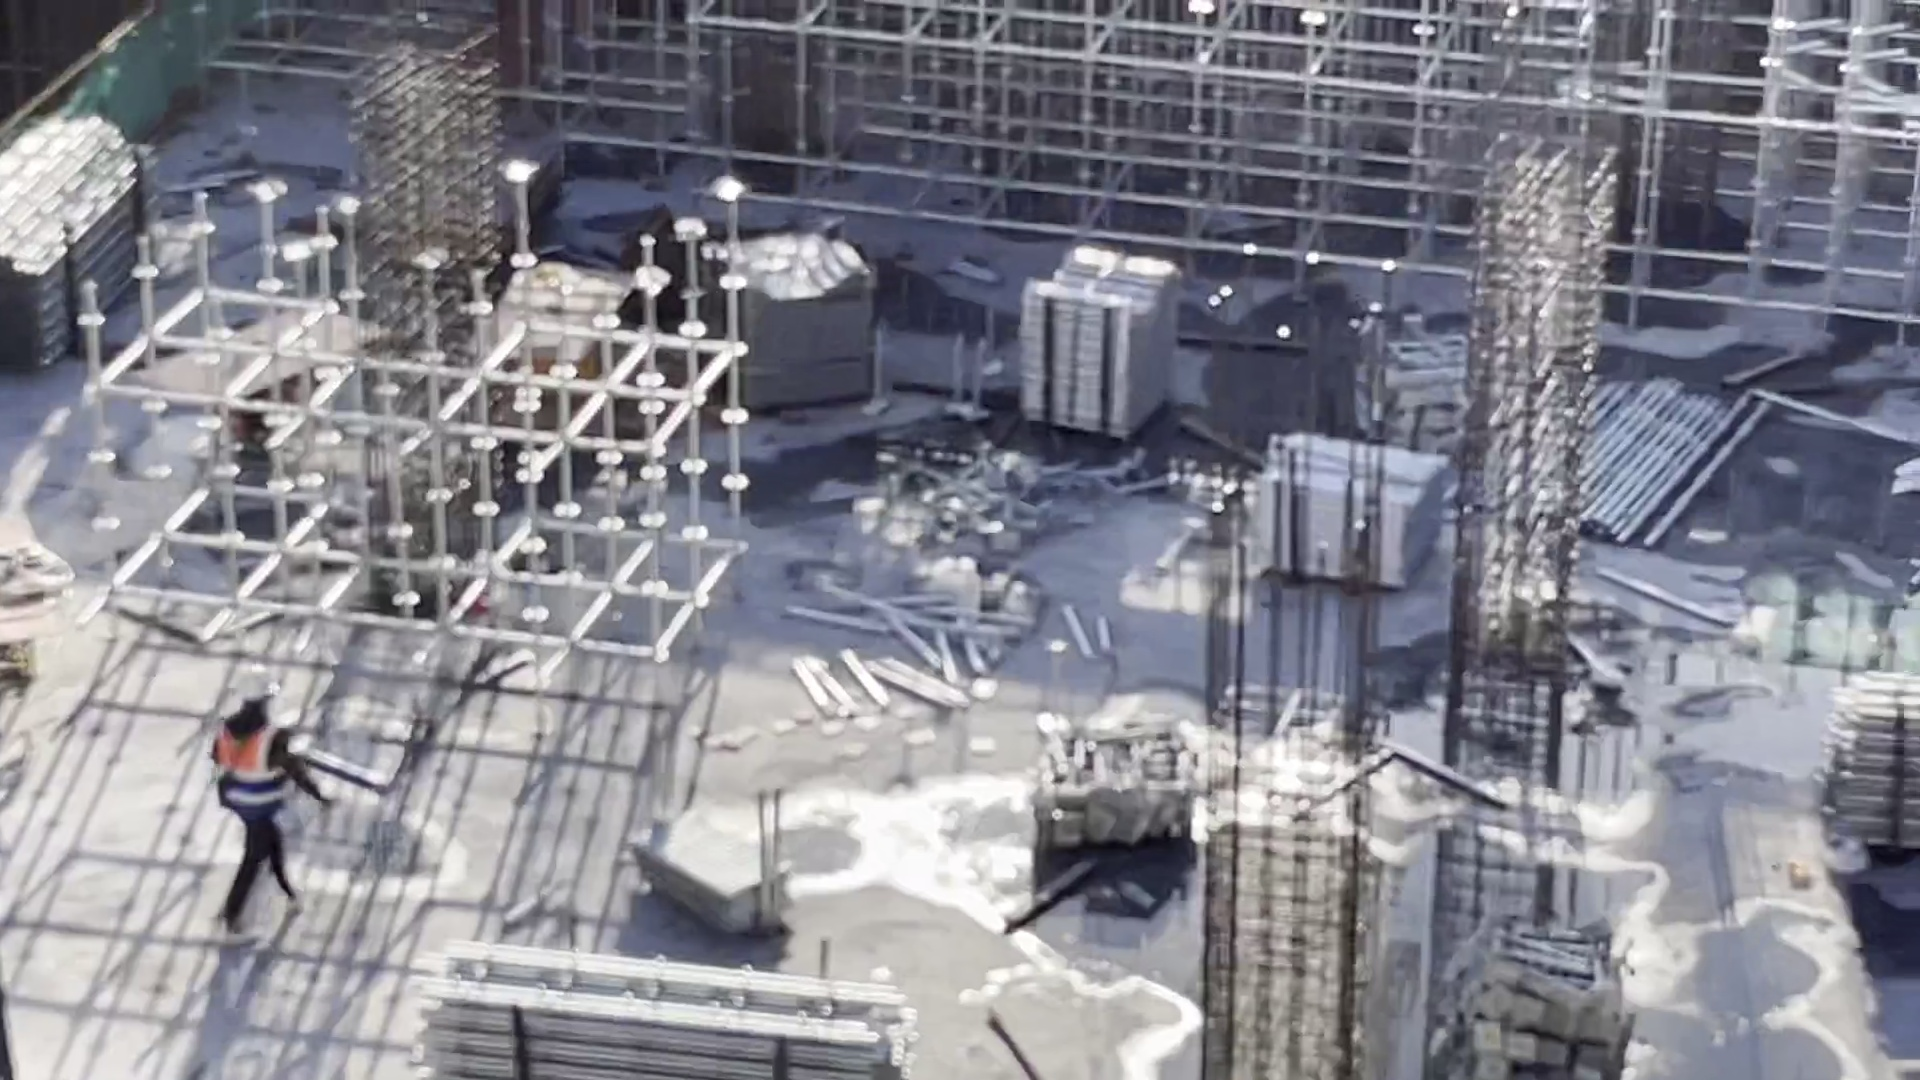cutter: (128, 293, 380, 476), (469, 257, 647, 420)
helmet: (241, 668, 285, 706)
person: (208, 665, 325, 942)
scaffold: (419, 937, 915, 1080), (1245, 416, 1464, 607), (1, 89, 150, 356), (1016, 227, 1187, 450), (1438, 904, 1650, 1080), (1533, 379, 1769, 532), (714, 203, 883, 408), (1016, 713, 1232, 861), (630, 798, 795, 943), (1815, 681, 1920, 847), (911, 450, 1048, 555)
vest: (215, 716, 298, 807)
